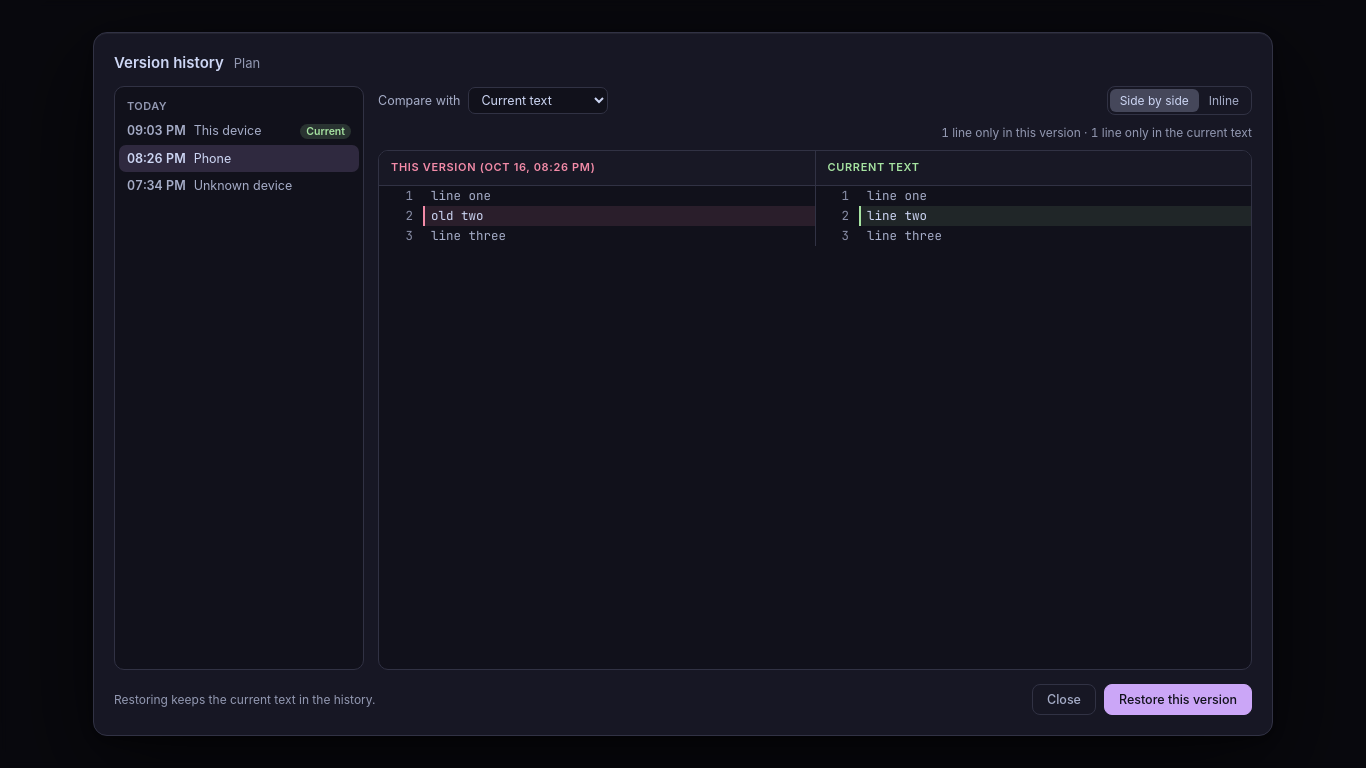
it: VersionHistoryDialog › keeps the dialog open with the reason when the restore fails
The width and height of the screenshot is (1366, 768).
Expected: the table named "Differences" is shown, [379,151,1251,246]
Click the button "Restore this version" at (1178, 700), box [1104,684,1252,715]
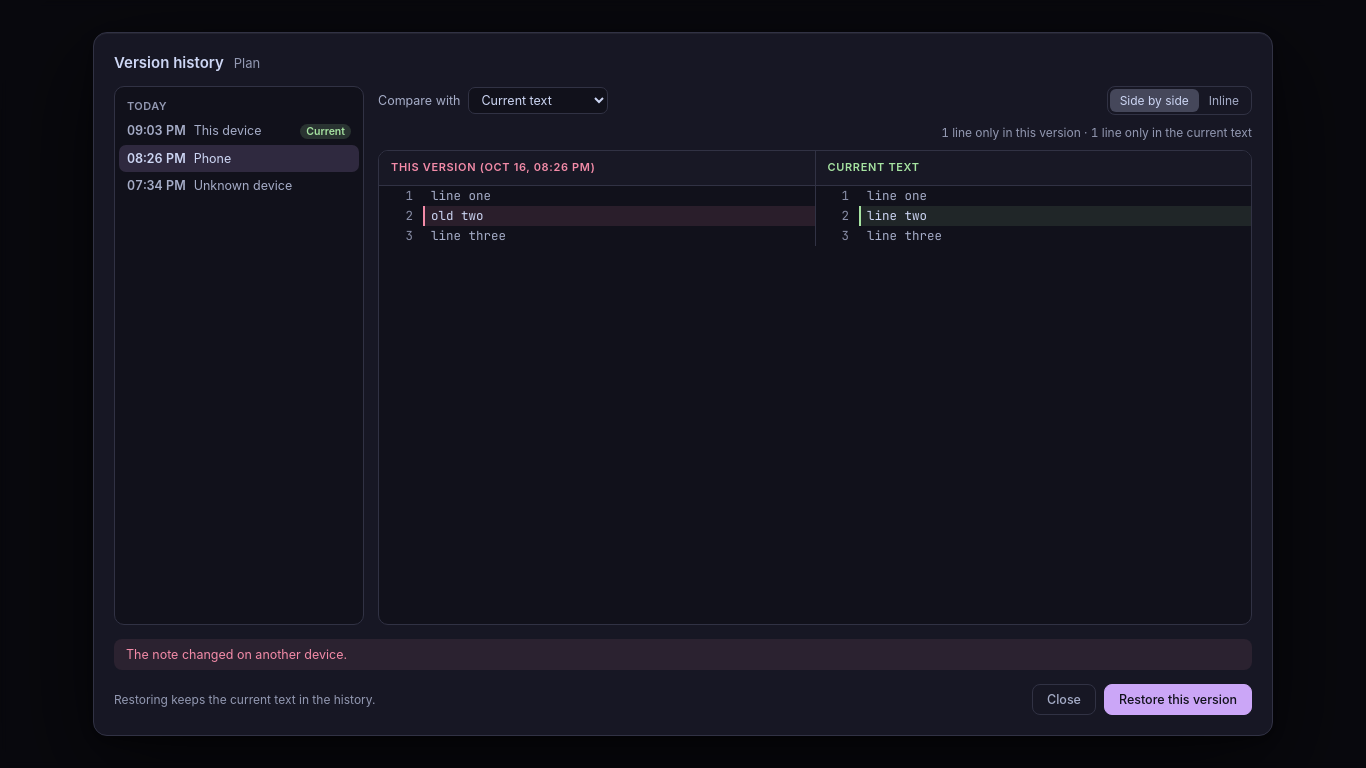
Now the message reads "The note changed on another device.", box [126,647,347,662]
